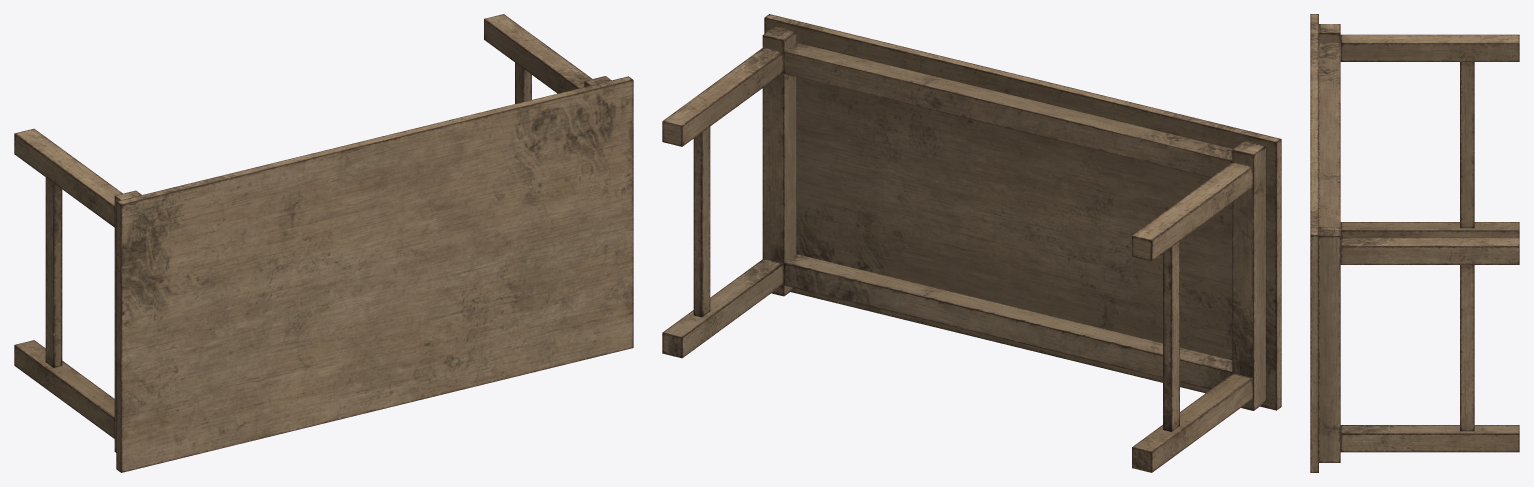
Rendered from table.obj.
The picture shows the model from 3 angles, left to right: view 1: azimuth 30°, elevation 25°; view 2: azimuth 150°, elevation 25°; view 3: azimuth 270°, elevation 25°; orthographic projection. The views are drawn at different scales.
Visible parts, largest first — view 1: Table_Wood_01; view 2: Table_Wood_01; view 3: Table_Wood_01.
Boxes of the visible parts, box(x1,y1,x2,y2) form: Table_Wood_01: box(14, 14, 633, 472); Table_Wood_01: box(662, 14, 1281, 472); Table_Wood_01: box(1310, 14, 1519, 472).
Bounding box in the file's own units: 1.8 × 0.9 × 0.72.
